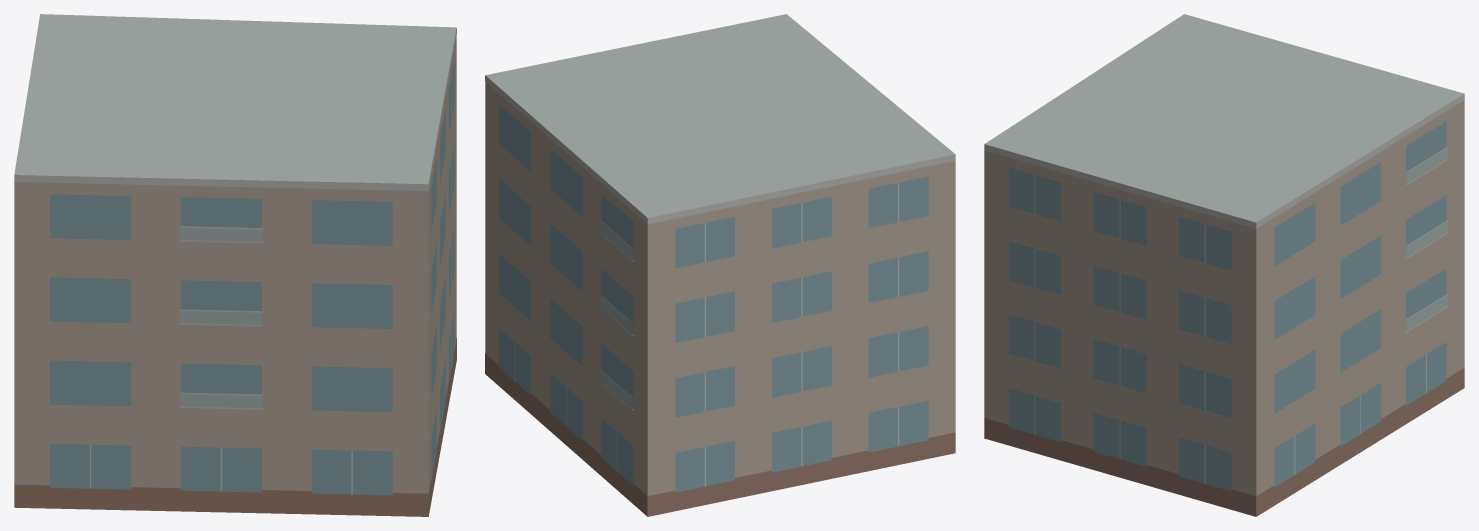
Rendered from survey-upis-32853576.glb.
The picture shows the model from 3 angles, left to right: view 1: azimuth 30°, elevation 25°; view 2: azimuth 150°, elevation 25°; view 3: azimuth 270°, elevation 25°; orthographic projection. The views are drawn at different scales.
Visible parts, largest first — view 1: survey-upis-32853576.tmp; view 2: survey-upis-32853576.tmp; view 3: survey-upis-32853576.tmp.
Boxes of the visible parts, bbox=[...] form: survey-upis-32853576.tmp: bbox=[14, 14, 456, 516]; survey-upis-32853576.tmp: bbox=[485, 14, 955, 516]; survey-upis-32853576.tmp: bbox=[984, 14, 1464, 516].
Bounding box in the file's own units: 17.64 × 11.6 × 17.17.
